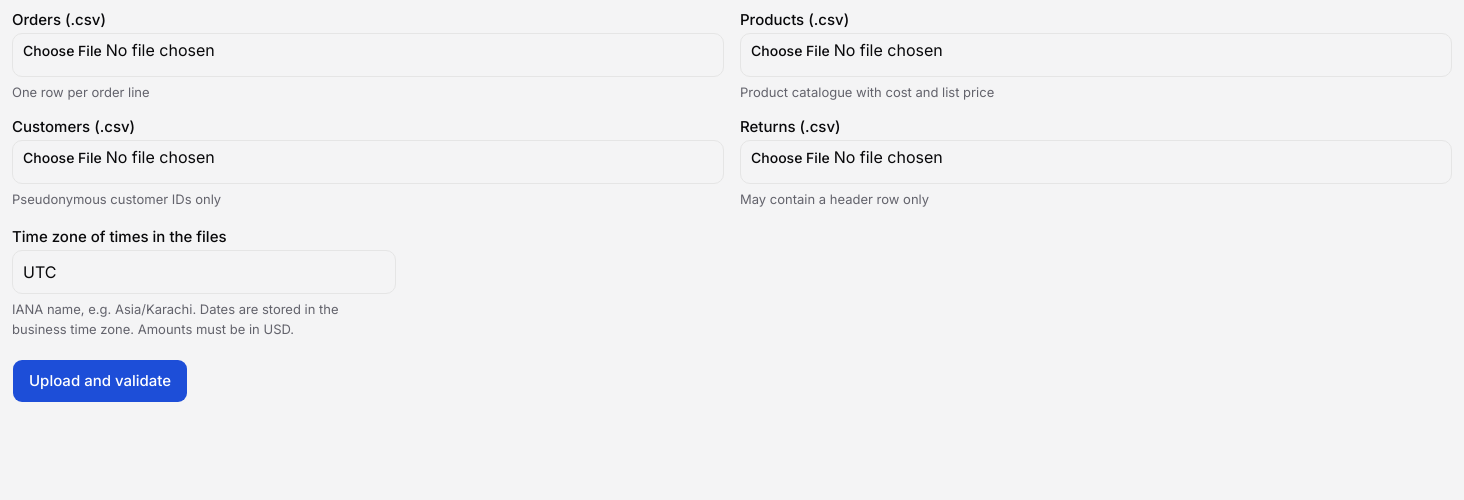
Test: UploadForm › shows server explanations and reuses the idempotency key on retry
This screenshot has width=1464, height=500.
Click the button "Upload and validate" at (100,381), box [12,359,188,403]
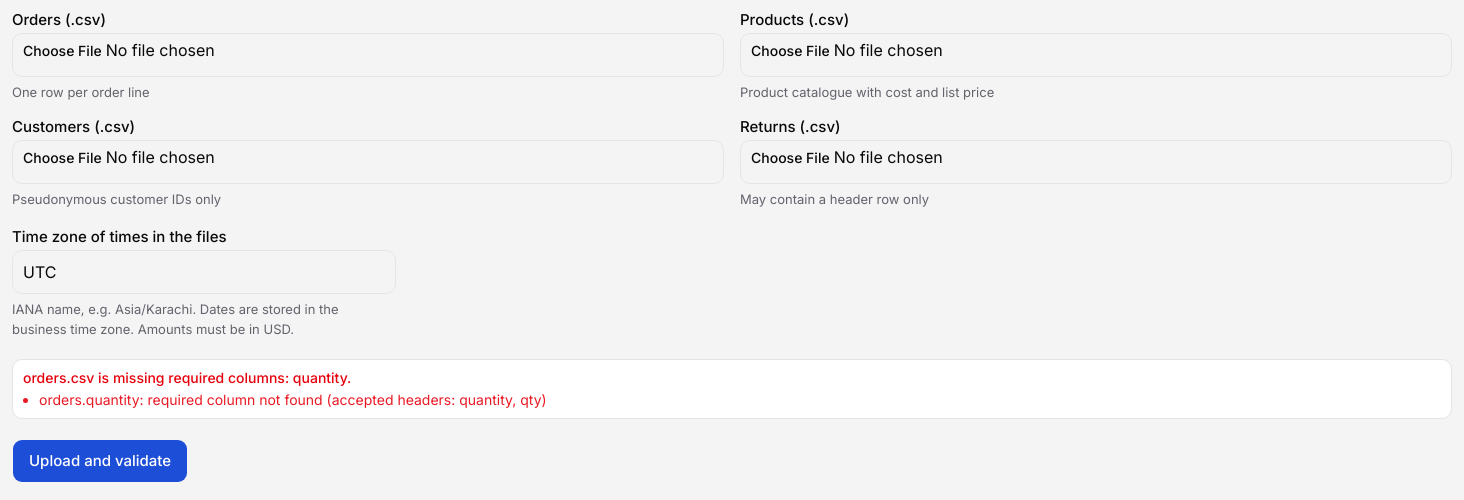
Check: the message shows "missing required columns: quantity", box [23,369,351,386]
Check: the message shows "orders.quantity: required column not found", box [39,391,547,408]
Click the button "Upload and validate" at (100,461), box [12,439,188,483]
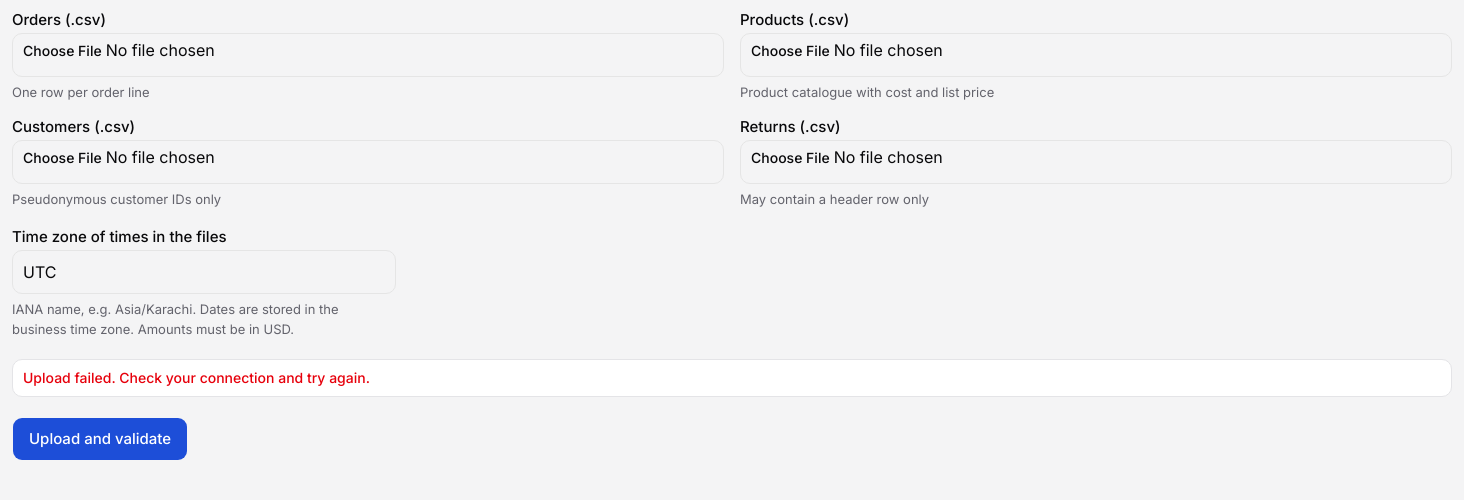
Check: the message shows "Upload failed", box [23,369,370,386]
